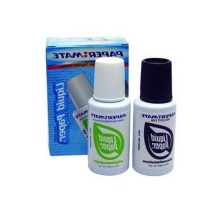book: (42, 34, 132, 158)
correction_fluid: (131, 56, 178, 178), (85, 55, 131, 177)
